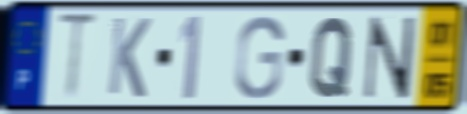1: (178, 13, 203, 103)
G: (232, 14, 286, 102)
K: (105, 14, 153, 101)
N: (361, 14, 419, 102)
Q: (307, 14, 356, 101)
T: (54, 9, 102, 105)
